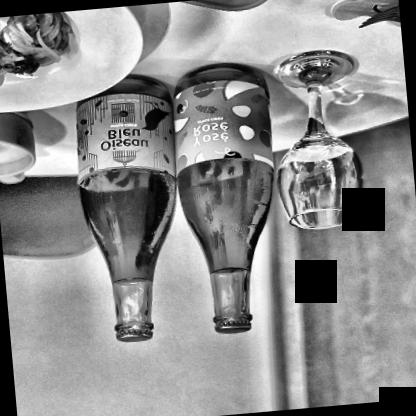yoserose: (170, 79, 280, 171)
